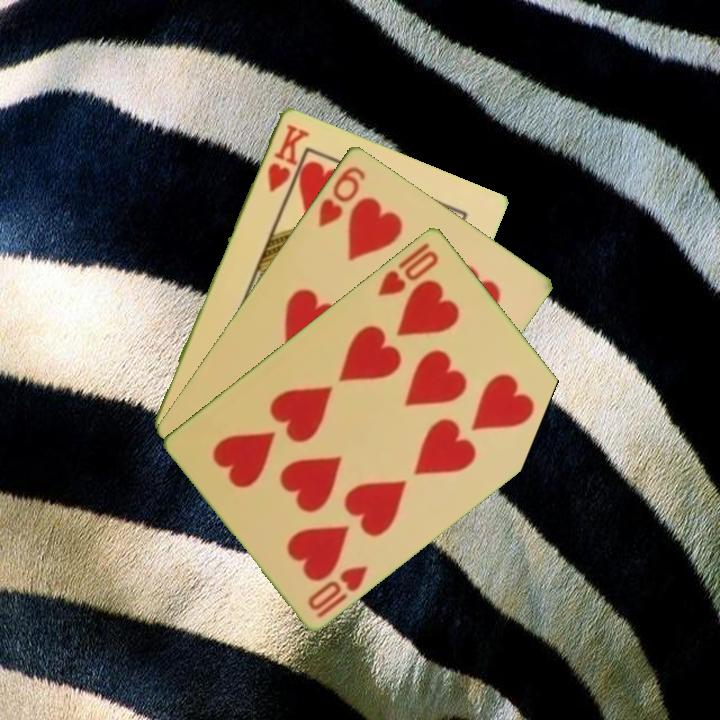10h: (304, 561, 372, 621), (374, 246, 442, 299)
6h: (314, 162, 369, 230)
Kh: (263, 120, 311, 194)
